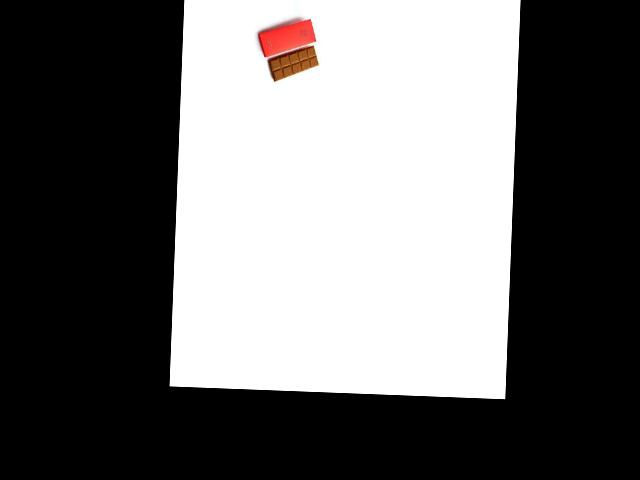chocolate: (264, 41, 320, 83)
